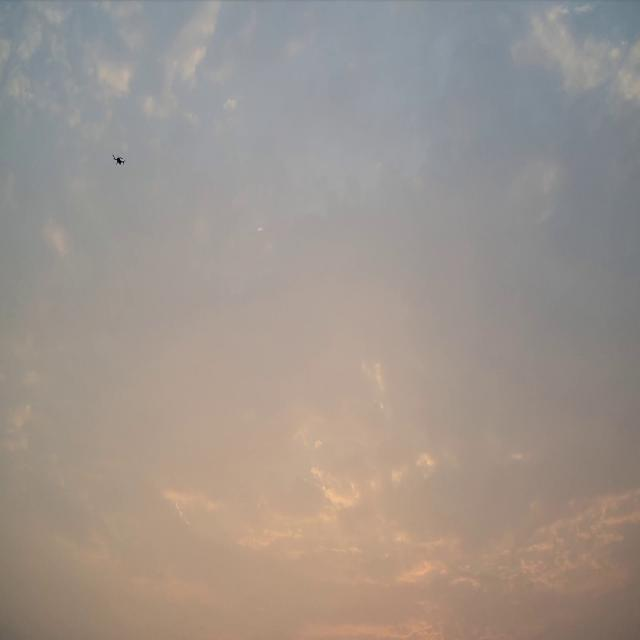UAV: (112, 154, 125, 165)
